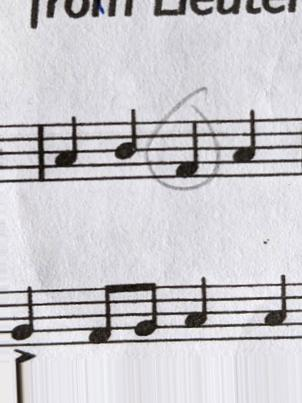A: (45, 111, 85, 182), (227, 106, 264, 175), (258, 272, 297, 337), (182, 273, 216, 338)
B: (111, 106, 148, 177)
F: (173, 118, 208, 180)
G: (9, 282, 47, 343)
